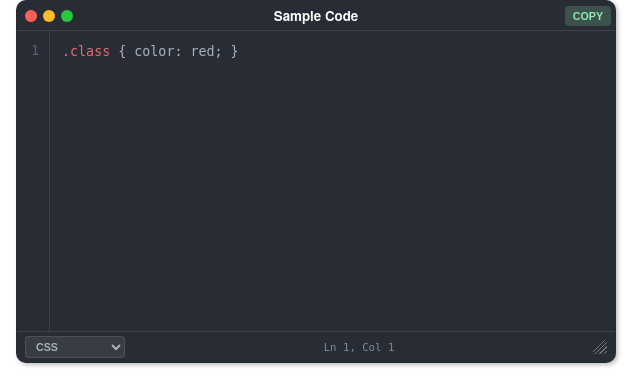
Test: CodeEditor › switches the highlighted language via the footer select
Select "javascript" in the dropdown named "Language" at (75, 347), box [25,336,125,358]
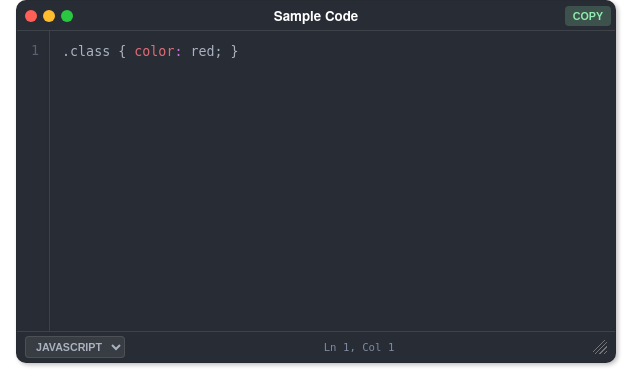
Expected: the element with class "language-javascript" is shown, [62,44,239,59]
